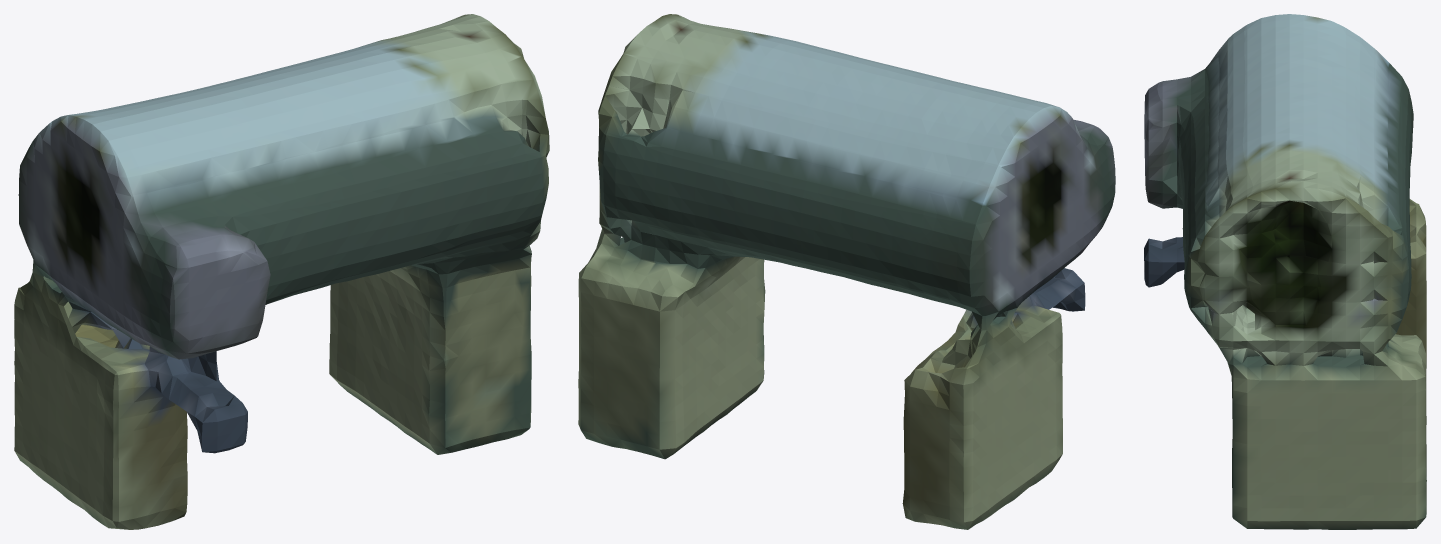
File: RocketTurret.fbx
3 renders of one model, left to right at view 1: azimuth 30°, elevation 25°; view 2: azimuth 150°, elevation 25°; view 3: azimuth 270°, elevation 25°, orthographic. The views are drawn at different scales.
Visible parts, largest first — view 1: Quadlauncher.1; view 2: Quadlauncher.1; view 3: Quadlauncher.1.
Boxes of the visible parts, bbox=[...] form: Quadlauncher.1: bbox=[14, 14, 549, 529]; Quadlauncher.1: bbox=[578, 14, 1115, 529]; Quadlauncher.1: bbox=[1144, 14, 1426, 529].
Bounding box in the file's own units: 99.97 × 91.43 × 66.03.
